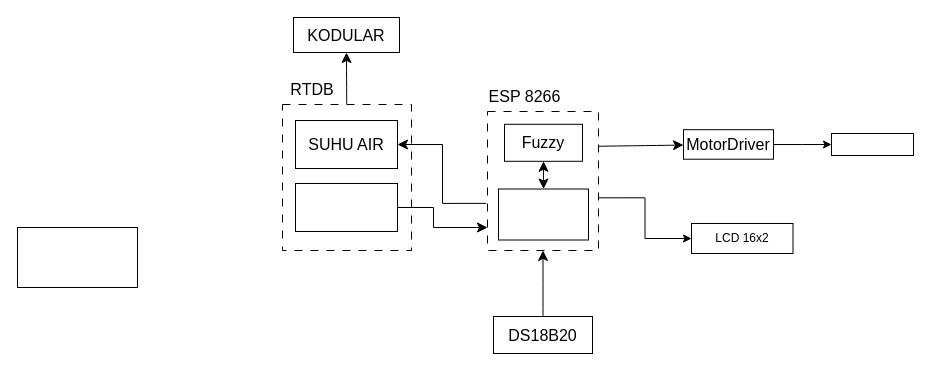
Image size: 931x371. Some labels were removed from this diagram. Here are the shapes that lost their labels. From the top down, the centre of each, then its label:
the point at 872,144: Heater
the point at 346,207: SUHU UDARA
the point at 543,214: Controller
